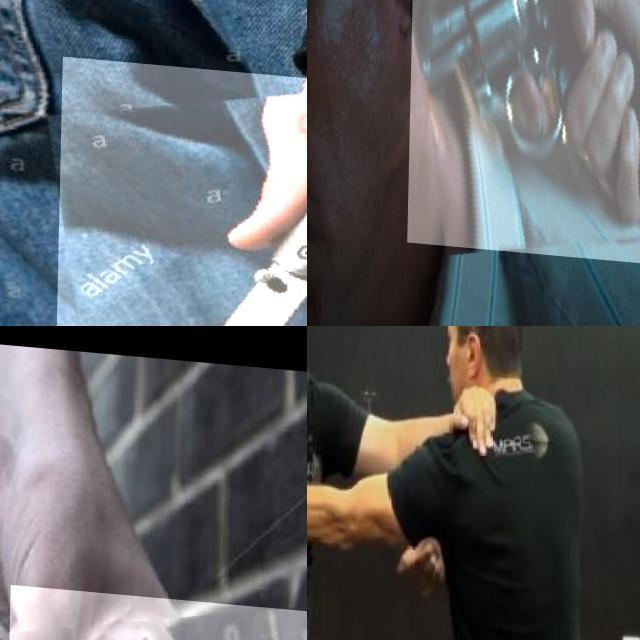-: (56, 53, 307, 326)
gun-knife-thesis - v11 Yolov5 augmented: (409, 0, 640, 255)
